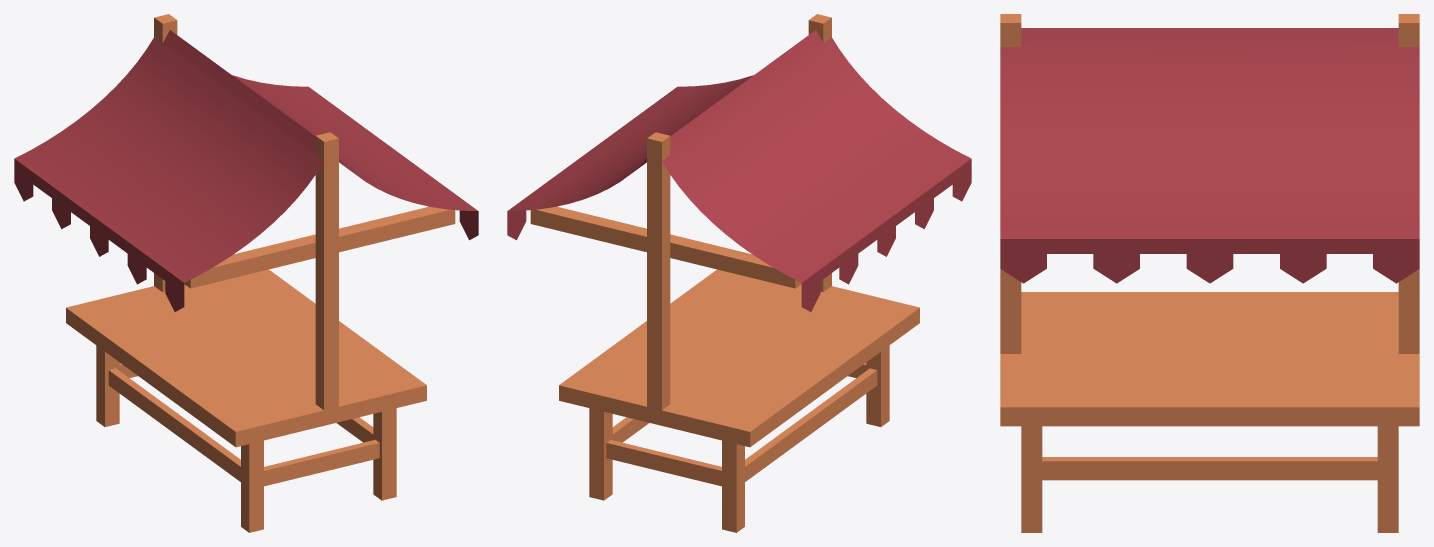
The model's file is stallRed.glb.
3 renders of one model, left to right at view 1: azimuth 30°, elevation 25°; view 2: azimuth 150°, elevation 25°; view 3: azimuth 270°, elevation 25°, orthographic. The views are drawn at different scales.
Parts seen in each view (by area): view 1: stallRed; view 2: stallRed; view 3: stallRed.
Part boxes in pixels (<box>): stallRed: <box>14,14,478,532</box>; stallRed: <box>507,14,971,532</box>; stallRed: <box>1000,14,1419,532</box>.
Size of the model in its own units: 2 by 2.47 by 2.
